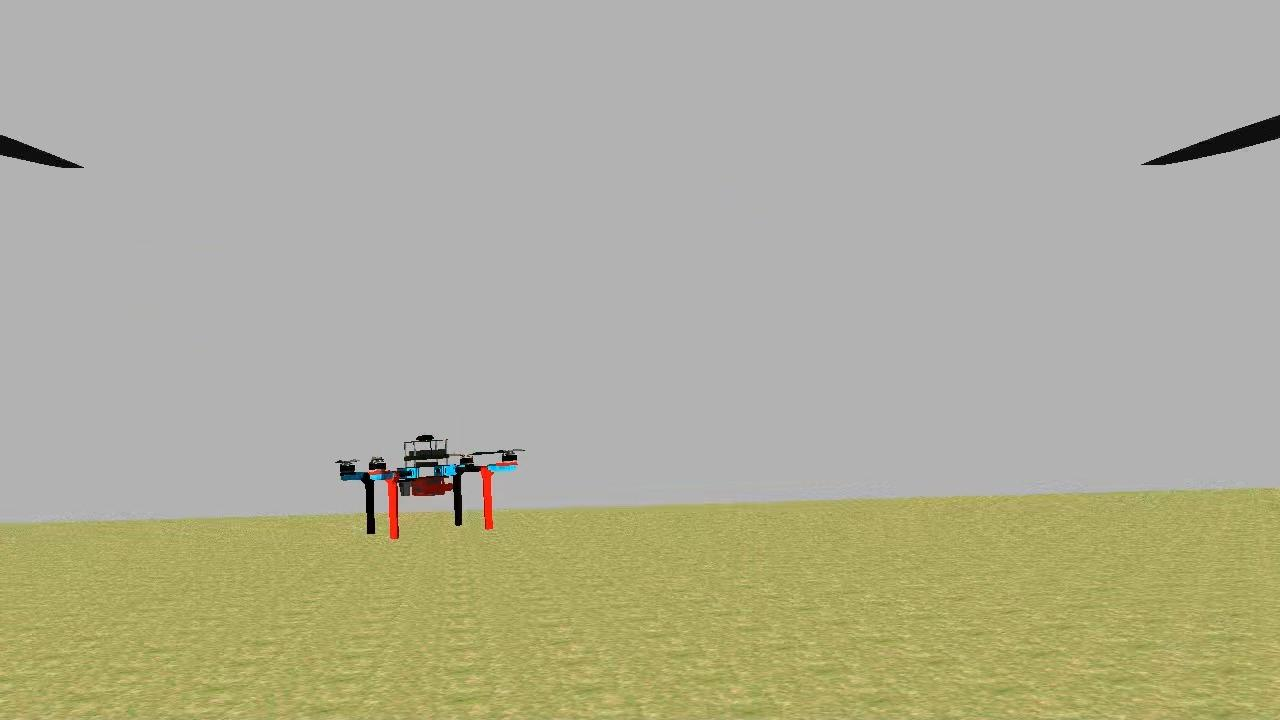UAV: (329, 426, 527, 544)
